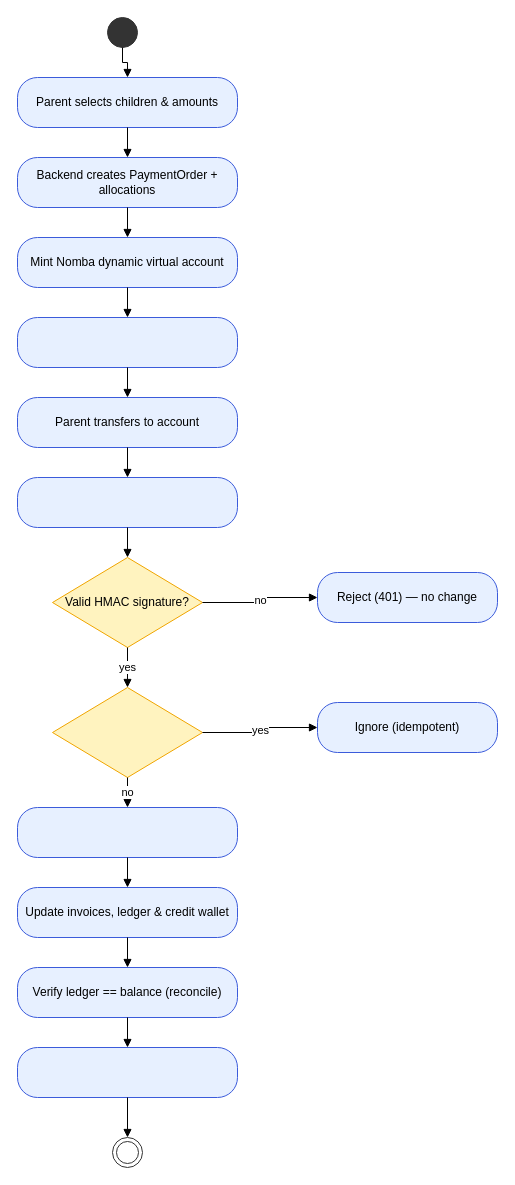
The diagram is 515 pixels wide and 1185 high, and some of its shapes have lost their labels. Here are the shapes that lost their labels. From the top down, the centre of each, then its label:
At (127,342): "Show account number to parent".
At (127,502): "Nomba sends signed webhook".
At (127,732): "Duplicate transaction ref?".
At (127,832): "Match by accountRef; run payment waterfall".
At (127,1072): "Notify parent by SMS + email".
